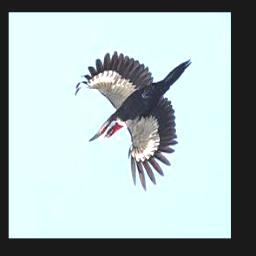Woodpecker: (75, 52, 192, 192)
